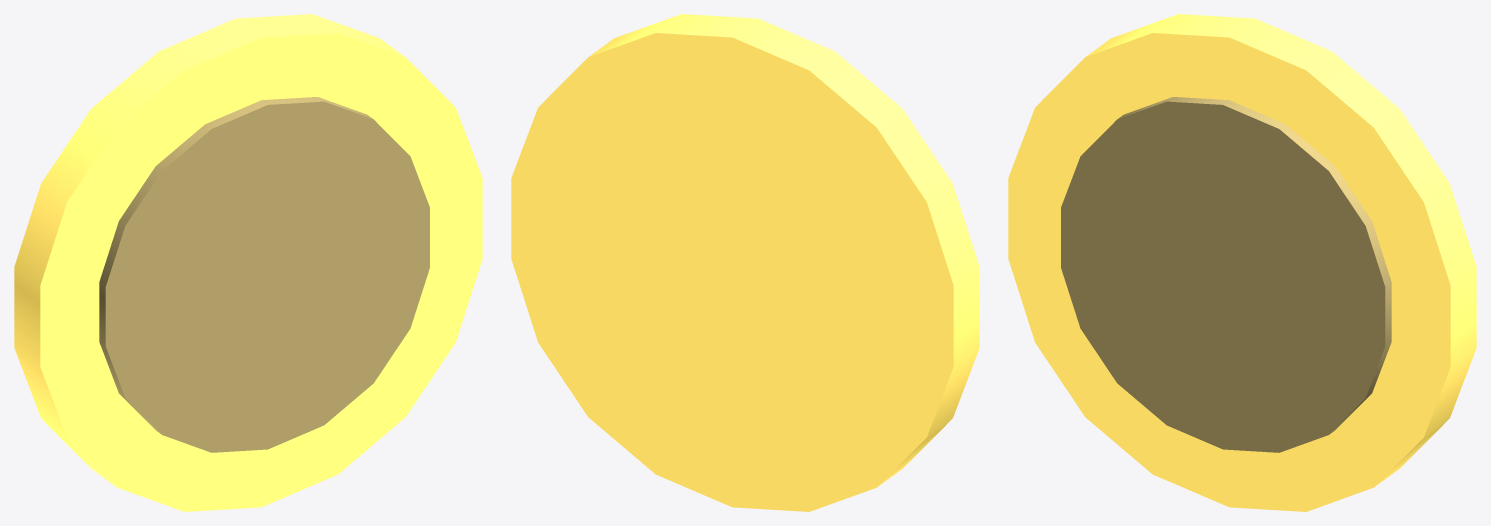
File: coin.glb
3 views of the same model, side by side, from view 1: azimuth 30°, elevation 25°; view 2: azimuth 150°, elevation 25°; view 3: azimuth 330°, elevation 25° (orthographic).
Visible parts, largest first — view 1: coin; view 2: coin; view 3: coin.
Boxes of the visible parts, x1,y1,x2,y2 form: coin: (14, 14, 482, 511); coin: (511, 14, 979, 511); coin: (1008, 14, 1476, 511).
Bounding box in the file's own units: 0.0591 × 0.06 × 0.0075.
